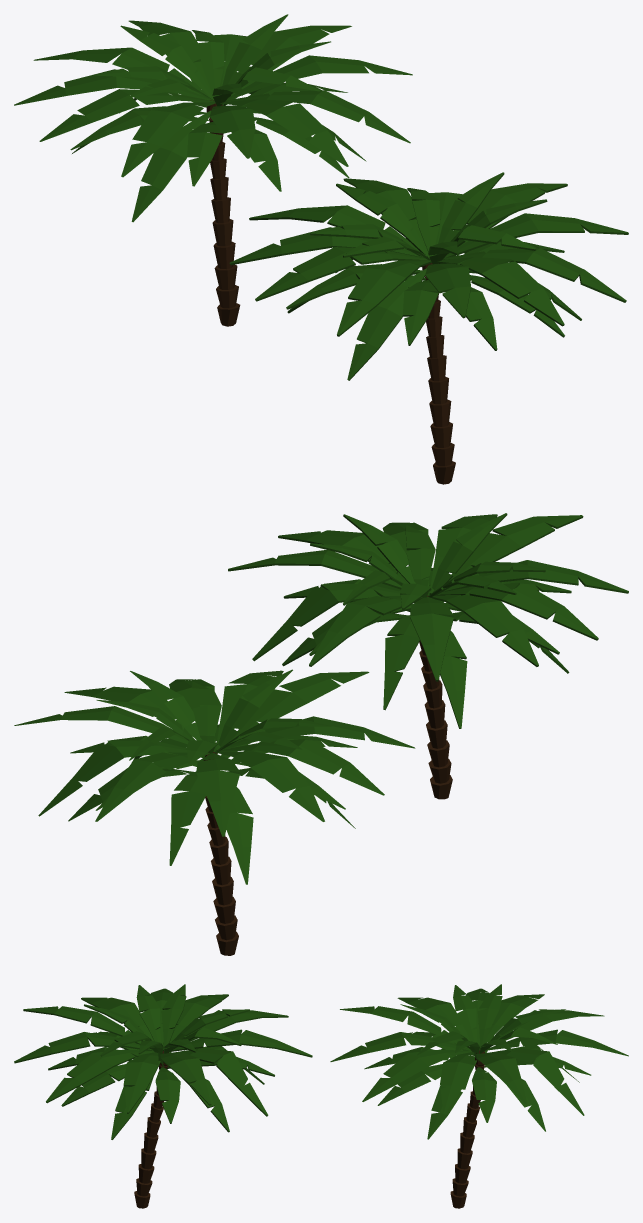
The model's file is LP large Palm tree .obj.
The picture shows the model from 3 angles, top to bottom: view 1: azimuth 30°, elevation 25°; view 2: azimuth 150°, elevation 25°; view 3: azimuth 270°, elevation 25°; orthographic projection. The views are drawn at different scales.
Parts seen in each view (by area): view 1: Palm_Tree_L_T_Cube.001, Plam_Tree_L_Cube.002; view 2: Palm_Tree_L_T_Cube.001, Plam_Tree_L_Cube.002; view 3: Palm_Tree_L_T_Cube.001, Plam_Tree_L_Cube.002.
Part boxes in pixels (left/top/right/bottom): Palm_Tree_L_T_Cube.001: left=229, top=172, right=628, bottom=484; Plam_Tree_L_Cube.002: left=14, top=14, right=412, bottom=326; Palm_Tree_L_T_Cube.001: left=228, top=513, right=628, bottom=799; Plam_Tree_L_Cube.002: left=14, top=669, right=415, bottom=955; Palm_Tree_L_T_Cube.001: left=14, top=984, right=312, bottom=1208; Plam_Tree_L_Cube.002: left=330, top=984, right=628, bottom=1208.
Bounding box in the file's own units: 18.38 × 13.29 × 38.37.
